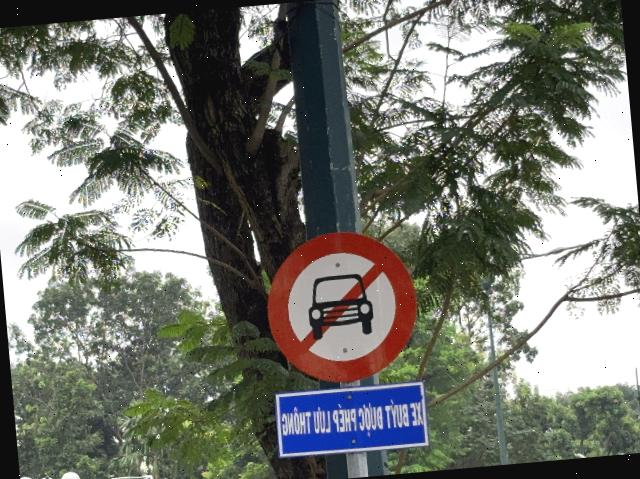cam-o-to: (261, 224, 423, 388)
